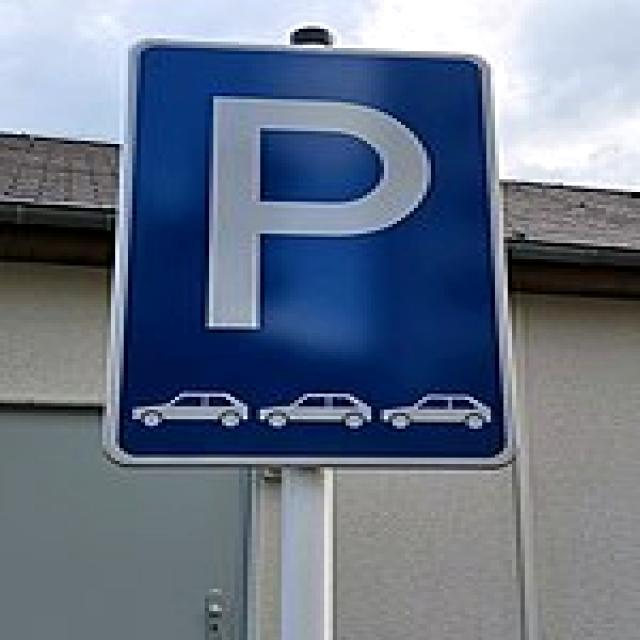Traffic sign: (98, 31, 524, 471)
